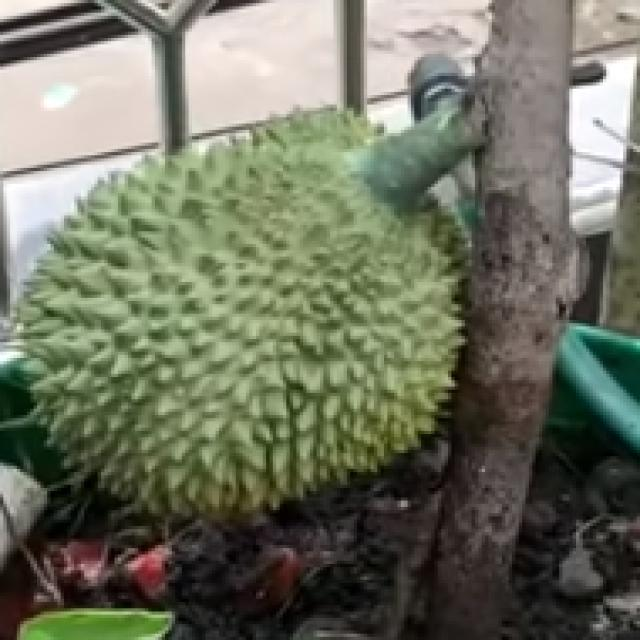immature: (8, 96, 472, 520)
